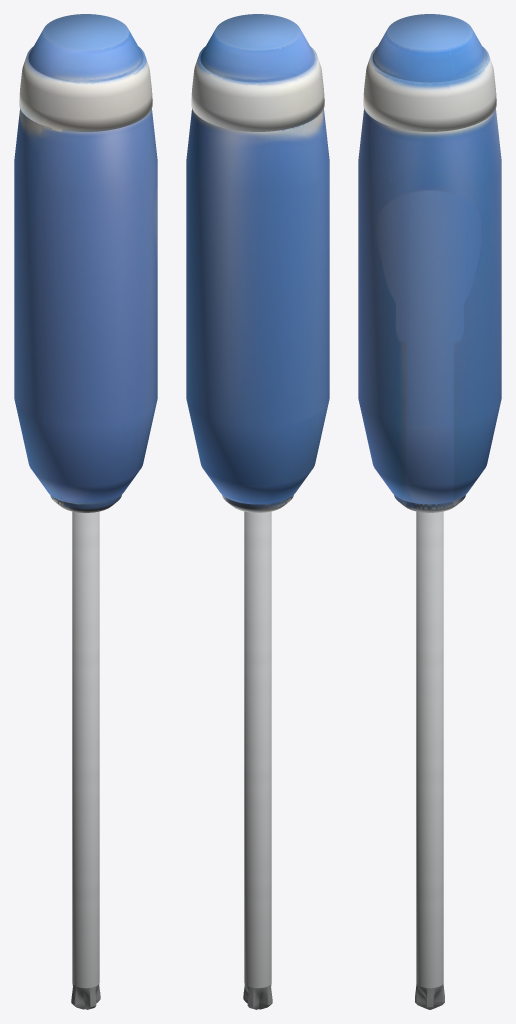
Rendered from screwdriver.glb.
The picture shows the model from 3 angles, left to right: view 1: azimuth 30°, elevation 25°; view 2: azimuth 150°, elevation 25°; view 3: azimuth 270°, elevation 25°; orthographic projection.
Parts seen in each view (by area): view 1: screwdriver; view 2: screwdriver; view 3: screwdriver.
Boxes of the visible parts, bbox=[...] form: screwdriver: bbox=[14, 14, 157, 1009]; screwdriver: bbox=[186, 14, 329, 1009]; screwdriver: bbox=[358, 14, 501, 1009].
Size of the model in its own units: 0.02 by 0.15 by 0.02.
Materials: 3 (3 with a texture image).
